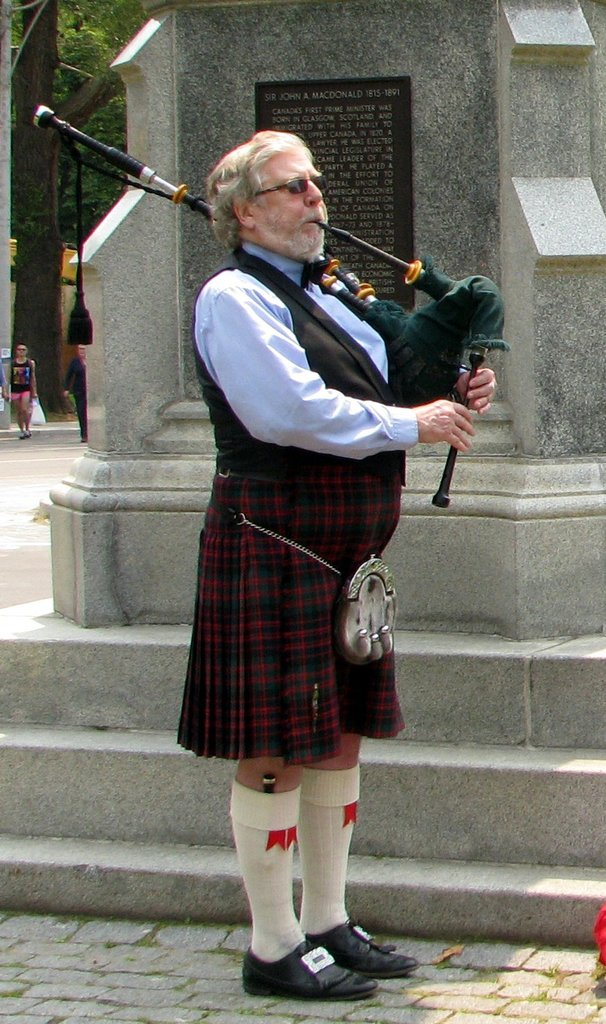Person: (181, 126, 501, 998)
